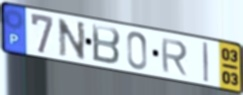0: (125, 30, 148, 71)
7: (29, 11, 55, 56)
B: (91, 22, 122, 67)
I: (202, 41, 210, 84)
N: (56, 17, 87, 62)
R: (160, 37, 189, 77)
